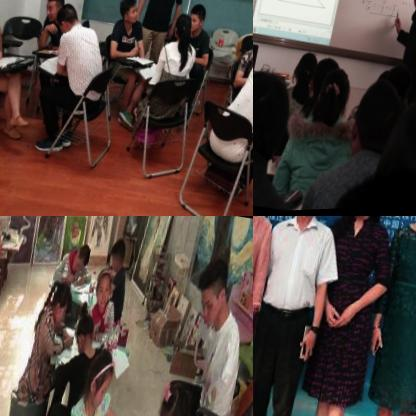head: (344, 76, 402, 163), (253, 64, 298, 171), (379, 97, 416, 209), (188, 250, 235, 334), (310, 65, 356, 133), (80, 343, 118, 409), (308, 56, 342, 114), (42, 276, 75, 333), (382, 61, 416, 114), (151, 377, 192, 416), (288, 48, 320, 97), (50, 0, 84, 38), (71, 309, 98, 355), (90, 267, 116, 313), (102, 234, 130, 276), (400, 85, 416, 149), (66, 239, 90, 279), (113, 0, 143, 28), (171, 13, 192, 43), (186, 5, 206, 35), (40, 0, 64, 22)
